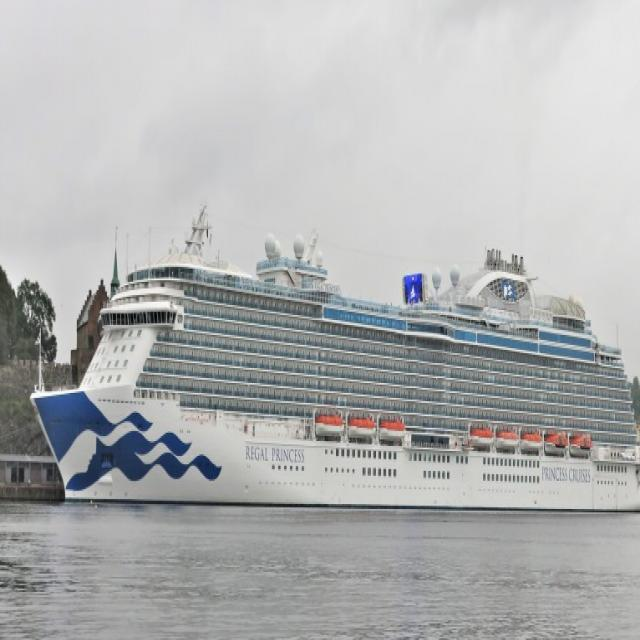cruises: (28, 198, 640, 526)
